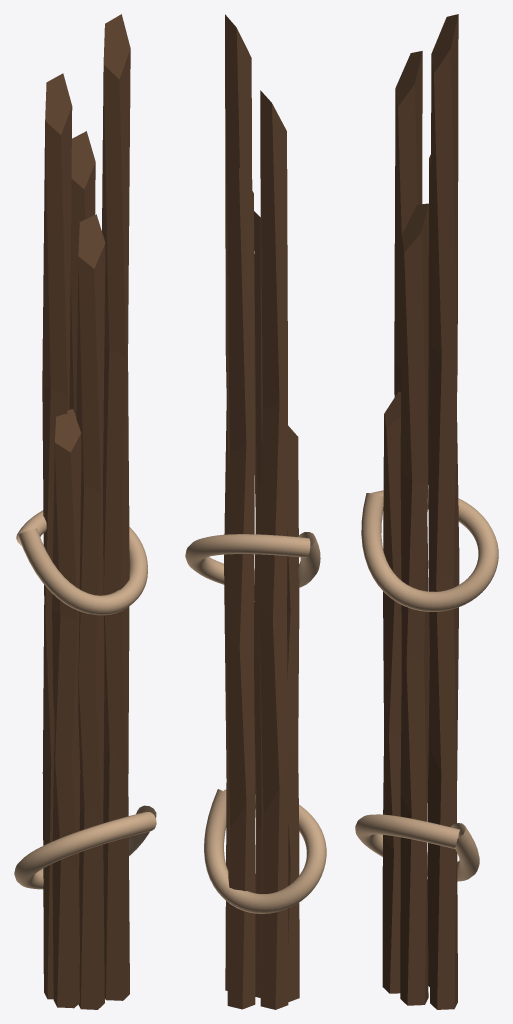
The model's file is Stokken_1.fbx.
The picture shows the model from 3 angles, left to right: view 1: azimuth 30°, elevation 25°; view 2: azimuth 150°, elevation 25°; view 3: azimuth 330°, elevation 25°; orthographic projection.
Parts seen in each view (by area): view 1: Stokken, Touwen; view 2: Stokken, Touwen; view 3: Stokken, Touwen.
Boxes of the visible parts, <box> form: Stokken: <box>42,14,130,1009</box>; Touwen: <box>14,510,156,889</box>; Stokken: <box>224,14,299,1009</box>; Touwen: <box>185,532,326,913</box>; Stokken: <box>382,14,459,1009</box>; Touwen: <box>355,489,498,881</box>.
Bounding box in the file's own units: 177 × 1287 × 121.
2 materials, 2 textured.
